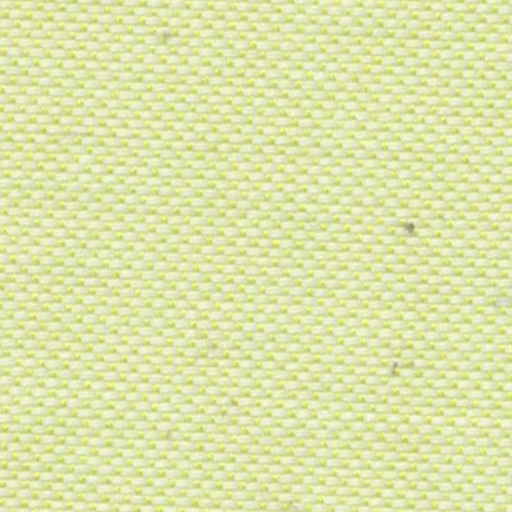WuZi: (148, 15, 188, 60), (380, 350, 422, 383), (389, 210, 425, 246)
